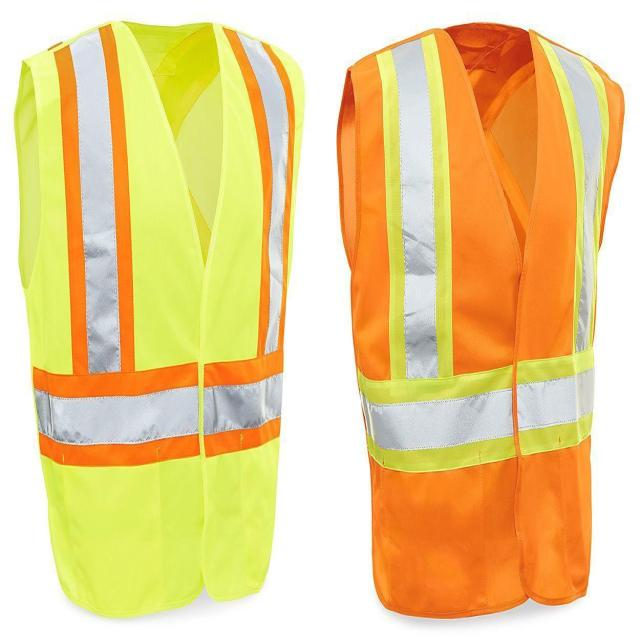Vest: (12, 16, 306, 622), (338, 25, 625, 623)
